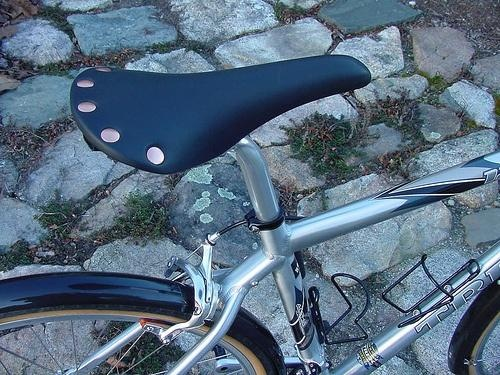bicycle: (3, 56, 500, 375)
